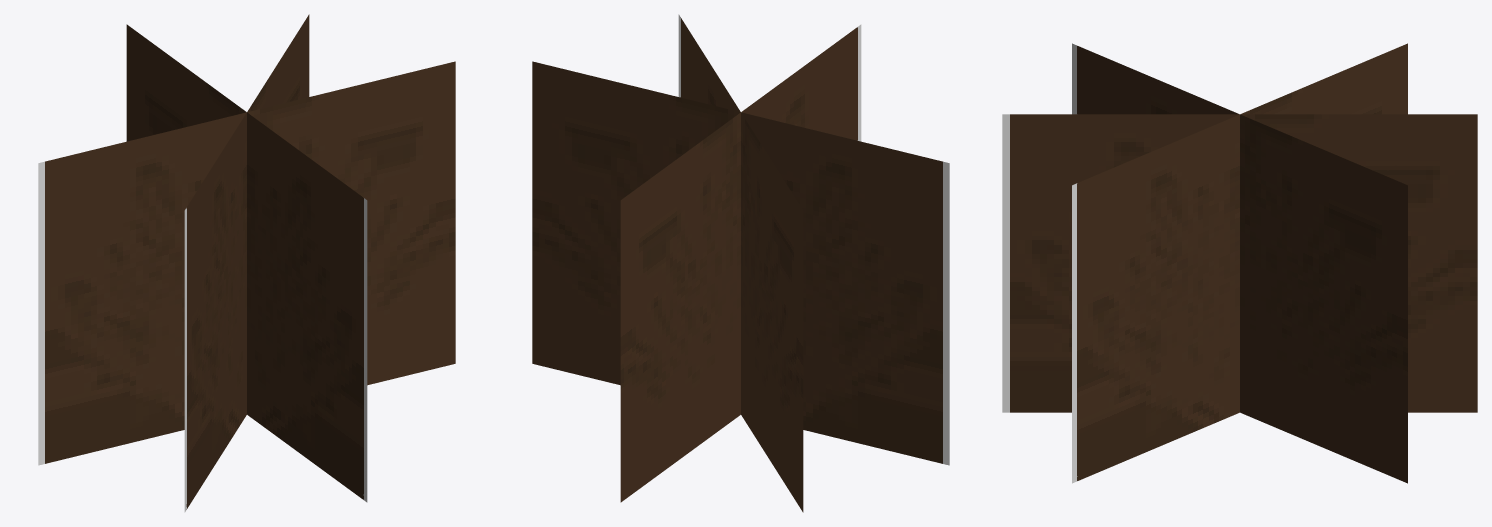
The model's file is bush_dead.fbx.
The picture shows the model from 3 angles, left to right: view 1: azimuth 30°, elevation 25°; view 2: azimuth 150°, elevation 25°; view 3: azimuth 270°, elevation 25°; orthographic projection.
Visible parts, largest first — view 1: bush_dry; view 2: bush_dry; view 3: bush_dry.
Boxes of the visible parts, x1=… form: bush_dry: x1=38, y1=14, x2=455, y2=512; bush_dry: x1=532, y1=14, x2=949, y2=512; bush_dry: x1=1002, y1=43, x2=1477, y2=483.
Bounding box in the file's own units: 346 × 240 × 346.
1 material, 1 textured.
